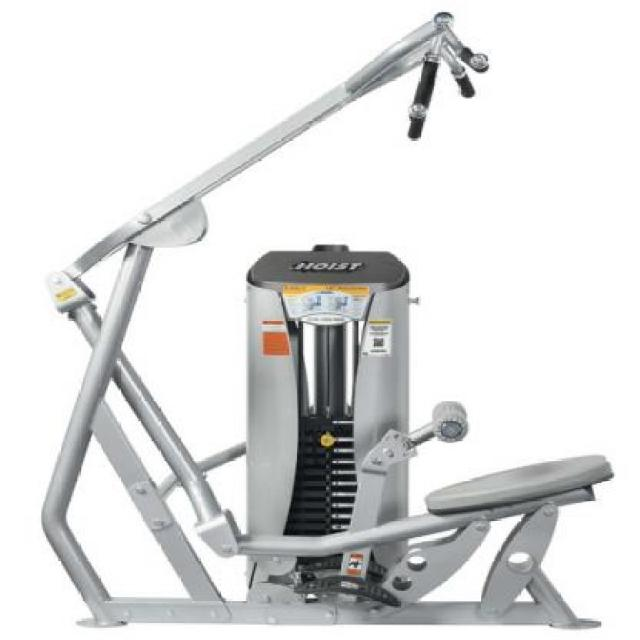Lat Pull Down: (25, 6, 617, 640)
